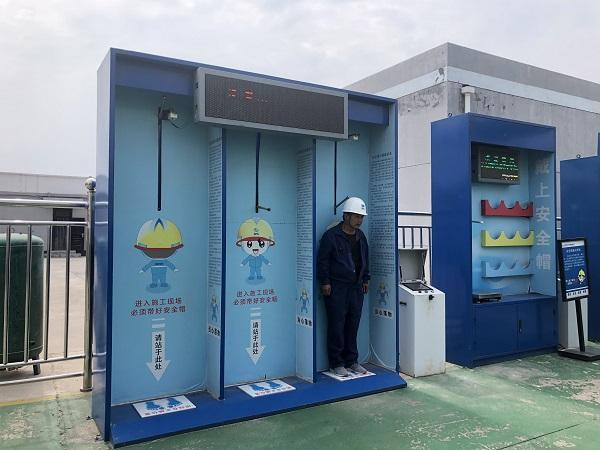helmet: (342, 195, 369, 216)
